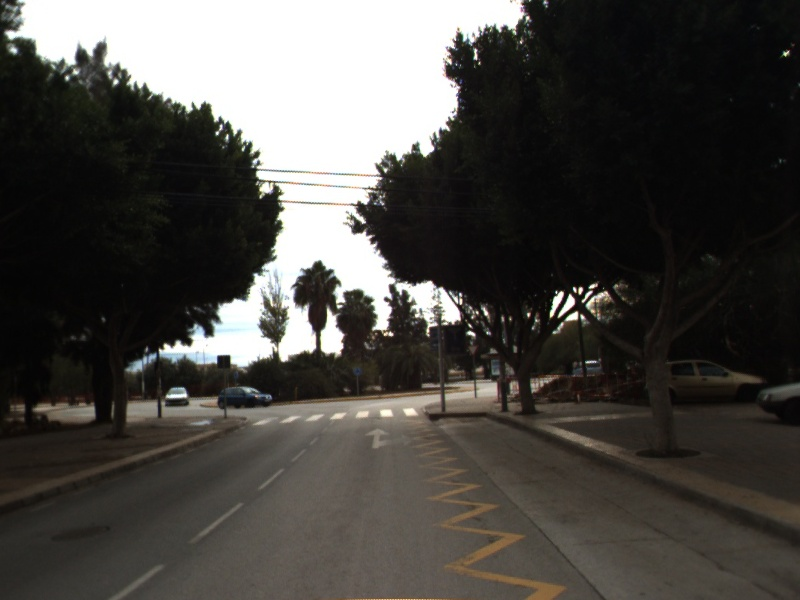STRAIGHT_RIGHT: (363, 426, 415, 451)
